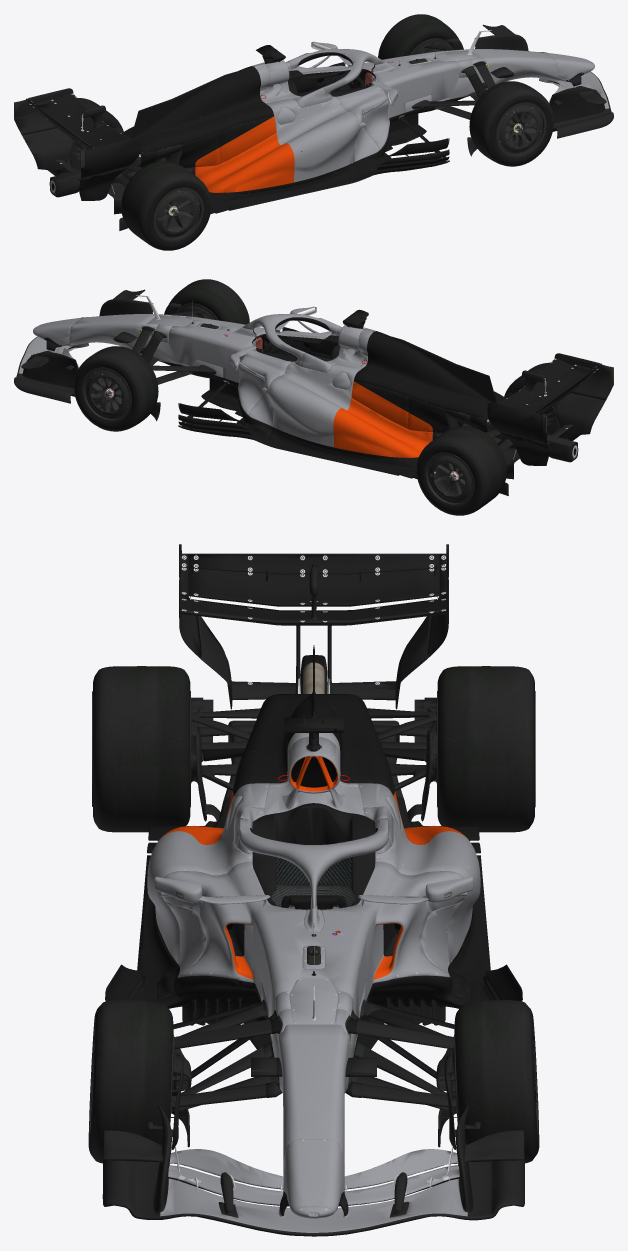
Rendered from audi.glb.
3 views of the same model, one above another, from view 1: azimuth 30°, elevation 25°; view 2: azimuth 150°, elevation 25°; view 3: azimuth 270°, elevation 25° (orthographic). The views are drawn at different scales.
Visible parts, largest first — view 1: Object_11, Object_8, Object_10, Object_16, Object_14, Object_17, Object_13, Object_12; view 2: Object_11, Object_8, Object_10, Object_16, Object_14, Object_17, Object_13, Object_12; view 3: Object_11, Object_16, Object_10, Object_8, Object_12, Object_17, Object_13, Object_14.
Boxes of the visible parts, bbox=[...] form: Object_11: bbox=[14, 34, 608, 200]; Object_8: bbox=[122, 49, 486, 214]; Object_10: bbox=[14, 24, 613, 230]; Object_16: bbox=[47, 14, 553, 250]; Object_14: bbox=[67, 38, 546, 241]; Object_17: bbox=[62, 31, 552, 248]; Object_13: bbox=[170, 61, 375, 166]; Object_12: bbox=[33, 30, 593, 193]; Object_11: bbox=[19, 299, 613, 465]; Object_8: bbox=[141, 314, 505, 479]; Object_10: bbox=[14, 289, 613, 495]; Object_16: bbox=[74, 279, 580, 515]; Object_14: bbox=[81, 303, 560, 506]; Object_17: bbox=[75, 296, 565, 513]; Object_13: bbox=[252, 335, 483, 432]; Object_12: bbox=[34, 295, 594, 458]; Object_11: bbox=[105, 544, 522, 1232]; Object_16: bbox=[91, 666, 536, 1163]; Object_10: bbox=[102, 548, 524, 1236]; Object_8: bbox=[105, 645, 522, 1078]; Object_12: bbox=[158, 564, 469, 1217]; Object_17: bbox=[88, 677, 539, 1153]; Object_13: bbox=[227, 747, 400, 955]; Object_14: bbox=[89, 691, 538, 1139].
Bounding box in the file's own units: 5.51 × 1.23 × 1.97.
Materials: 14 (10 with a texture image).
